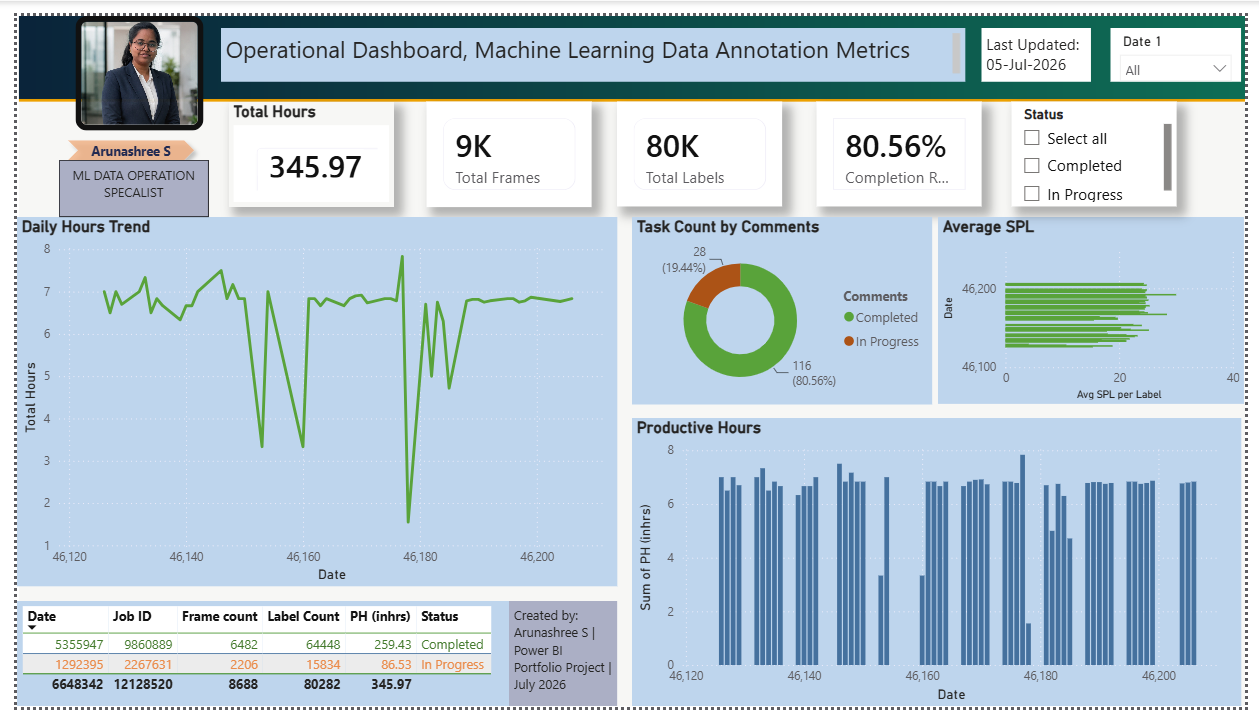

This screenshot's page, from the dashboard's own definition file:
{"tool":"powerbi","page":{"name":"Page 1","canvas":[1280,720],"ordinal":0},"visuals":[{"type":"image","title":"Annotation Performance Dashboard                       Arunashree S                   Last Updated: 05-Jul-2026 ","box":[0,0,1281.2,718.8],"z":0},{"type":"image","box":[61.1,0,133.3,119.4],"z":1000},{"type":"shape","box":[43.8,120.3,150,39.1],"z":2000},{"type":"cardVisual","title":"Total Hours","fields":{"Data":["Sheet1.Total Hours"]},"box":[220.8,88.9,172.2,109.7],"z":3000},{"type":"cardVisual","title":"Total Frames","fields":{"Data":["Sheet1.Total Frames"]},"box":[426.4,88.9,172,109.7],"z":4000},{"type":"cardVisual","fields":{"Data":["Sheet1.Total Labels"]},"box":[624.9,88.8,172,109],"z":5000},{"type":"cardVisual","fields":{"Data":["Sheet1.Completion Rate"]},"box":[833.3,88.9,172,109],"z":6000},{"type":"lineChart","title":"Daily Hours Trend","fields":{"Category":["Sheet1.Date"],"Y":["Sheet1.Total Hours"]},"box":[0,209.7,625,384.7],"z":7000},{"type":"donutChart","fields":{"Y":["Sheet1.Task Count"],"Category":["Sheet1.Comments"]},"box":[640.6,209.9,312.9,195.1],"z":8000},{"type":"barChart","title":"Average SPL","fields":{"Y":["Sheet1.Avg SPL per Label"],"Category":["Sheet1.Date"]},"box":[959.4,209.4,318.8,194.8],"z":9000},{"type":"columnChart","title":"Productive Hours","fields":{"Category":["Sheet1.Date"],"Y":["Sum(Sheet1.PH (inhrs))"]},"box":[640.6,418.8,634.4,300],"z":10000},{"type":"tableEx","title":"Date","fields":{"Values":["Sum(Sheet1.Date)","Sum(Sheet1.Job id)","Sum(Sheet1.Frame count)","Sum(Sheet1.Label Count)","Sum(Sheet1.PH (inhrs))","Sheet1.Comments"]},"box":[0,609.4,512.5,109.4],"z":11000},{"type":"textbox","box":[212.5,12.5,775,56.2],"z":12000},{"type":"textbox","box":[1004.7,12.5,114.1,56.2],"z":13000},{"type":"slicer","fields":{"Values":["Sheet1.Actual_date"]},"box":[1139.1,12.5,135.9,56.2],"z":13001},{"type":"slicer","fields":{"Values":["Sheet1.Comments"]},"box":[1035.9,89.1,171.9,109.4],"z":13002},{"type":"textbox","box":[512.5,609.4,112.5,109.4],"z":13003},{"type":"textbox","box":[43.8,150,156.2,59.4],"z":13004}]}

Visuals, with their boxes in screenshot pixels (x1, y1, x2, y2), scaled from the page's 1280x720 canvas onto the 1259x719 screenshot:
"Annotation Performance Dashboard                       Arunashree S                   Last Updated: 05-Jul-2026 " image: <box>0,0,1258,718</box>
image: <box>60,0,191,119</box>
shape: <box>43,120,191,159</box>
"Total Hours" cardVisual: <box>217,89,387,198</box>
"Total Frames" cardVisual: <box>419,89,589,198</box>
cardVisual - Sheet1.Total Labels: <box>615,89,784,198</box>
cardVisual - Sheet1.Completion Rate: <box>820,89,989,198</box>
"Daily Hours Trend" lineChart: <box>0,209,615,594</box>
donutChart - Sheet1.Task Count x Sheet1.Comments: <box>630,210,938,404</box>
"Average SPL" barChart: <box>944,209,1257,404</box>
"Productive Hours" columnChart: <box>630,418,1254,718</box>
"Date" tableEx: <box>0,609,504,718</box>
textbox: <box>209,12,971,69</box>
textbox: <box>988,12,1100,69</box>
slicer - Sheet1.Actual_date: <box>1120,12,1254,69</box>
slicer - Sheet1.Comments: <box>1019,89,1188,198</box>
textbox: <box>504,609,615,718</box>
textbox: <box>43,150,197,209</box>
